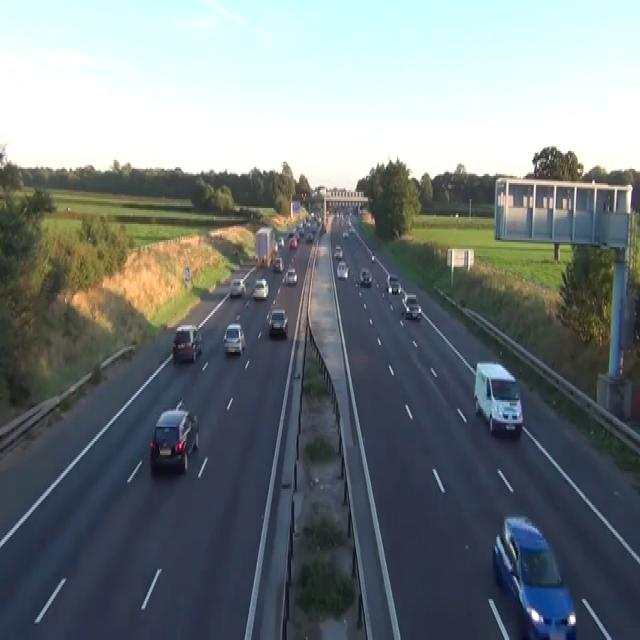Car: (492, 514, 576, 638), (149, 398, 199, 473), (171, 323, 202, 362), (223, 322, 245, 354), (267, 308, 288, 336), (402, 293, 421, 320), (252, 277, 269, 299), (229, 277, 246, 297), (386, 272, 400, 293), (282, 266, 297, 284), (359, 267, 372, 286), (336, 260, 348, 279), (272, 256, 283, 272), (333, 244, 342, 258), (289, 236, 298, 249), (305, 231, 313, 242), (277, 237, 284, 247), (392, 228, 399, 238), (297, 226, 304, 236), (273, 240, 278, 252), (287, 230, 294, 238), (347, 221, 352, 231), (342, 230, 348, 238), (321, 224, 326, 233), (371, 254, 374, 262)
Truck: (473, 361, 523, 437), (254, 226, 276, 266), (290, 201, 300, 217)
